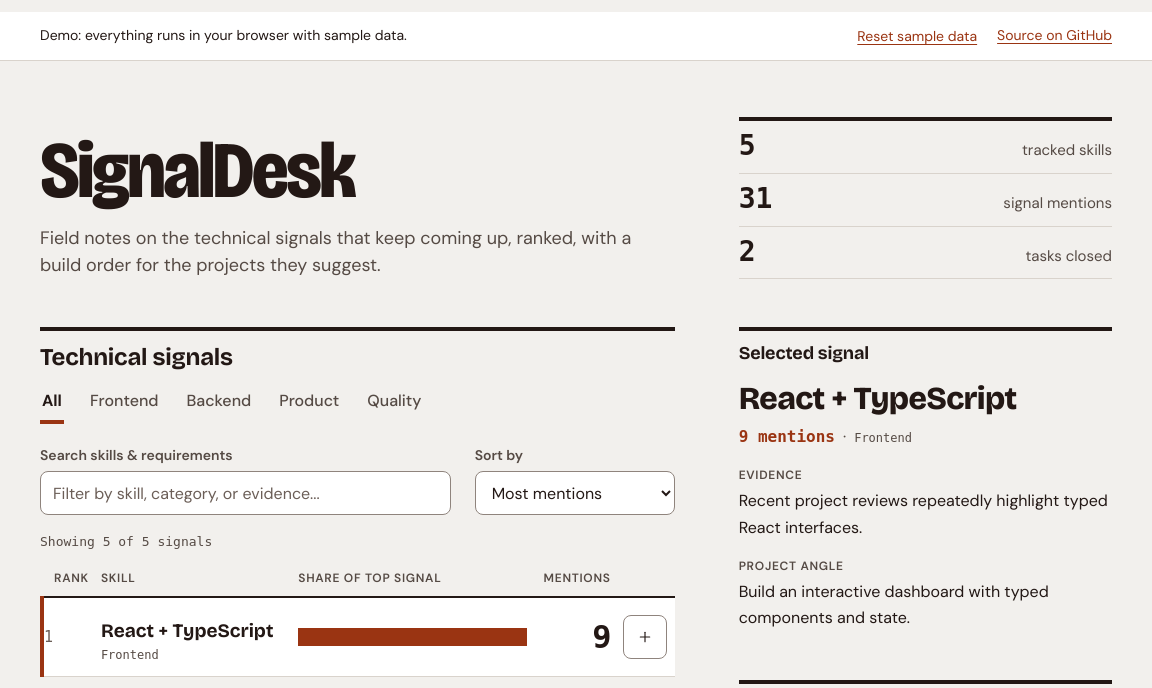
Test case: SignalDesk › shows an empty state when search query matches nothing
The width and height of the screenshot is (1152, 688).
In the search field labelled "Search skills & requirements": x=245, y=493 [40,471,451,515], type "NonExistentSkillXYZ"
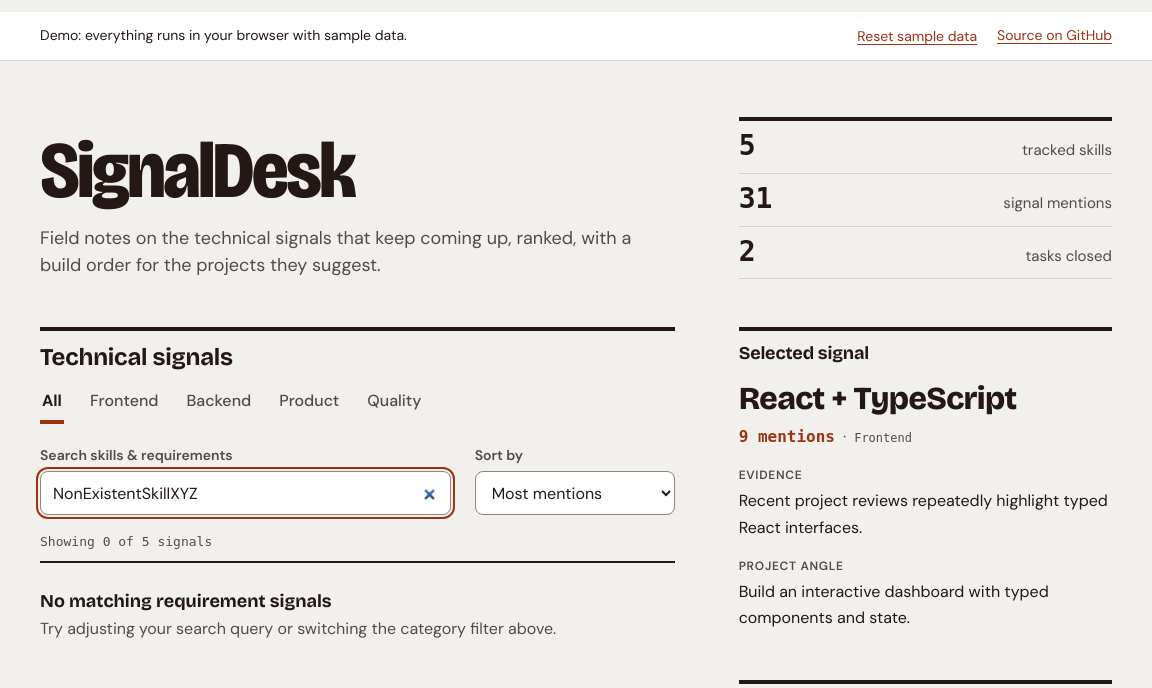
Expected: the text "No matching requirement signals" is shown, [40,590,332,612]
Expected: the text "Try adjusting your search query" is shown, [40,618,556,639]
